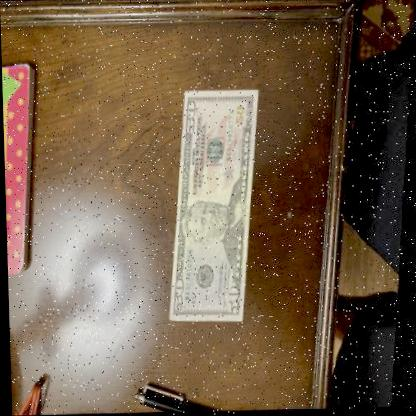dollar_front: (168, 89, 266, 324)
